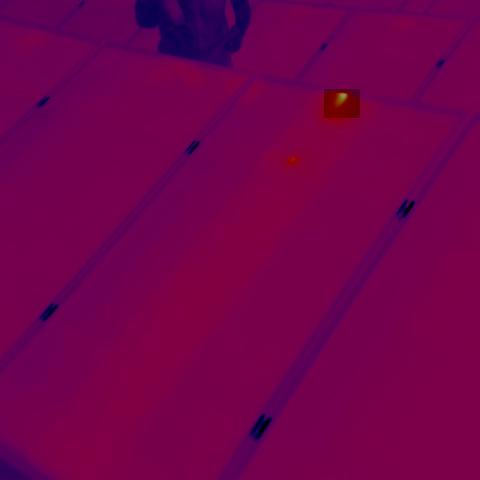fault: (324, 89, 360, 118)
